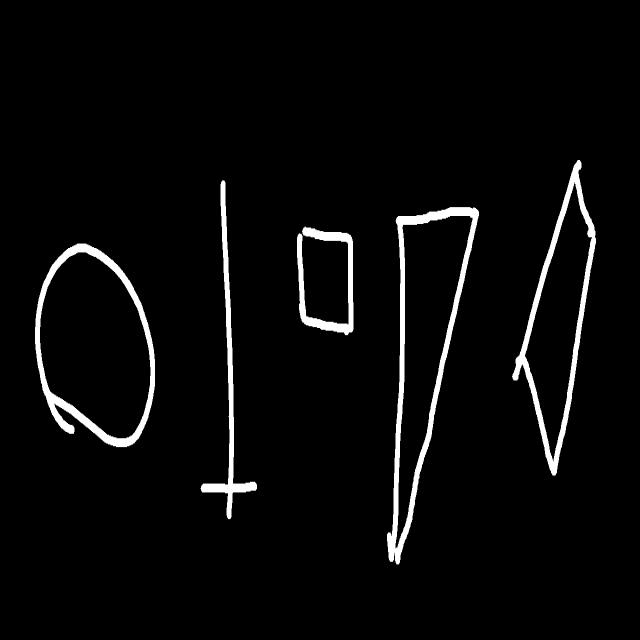Circle: (36, 244, 154, 447)
Cross: (201, 180, 257, 519)
Diamond: (512, 161, 596, 475)
Square: (297, 227, 353, 334)
Triangle: (387, 207, 479, 564)
